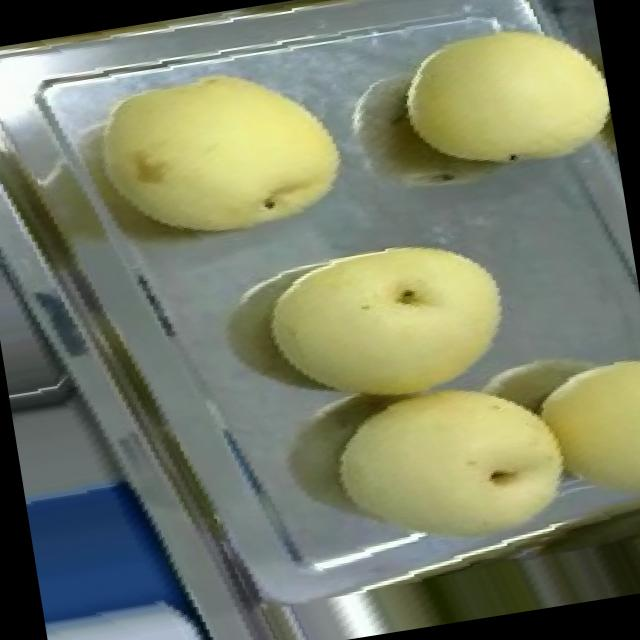Fruit: (296, 333, 607, 608), (231, 190, 545, 454), (60, 29, 373, 285), (374, 0, 621, 209), (510, 323, 640, 532)
